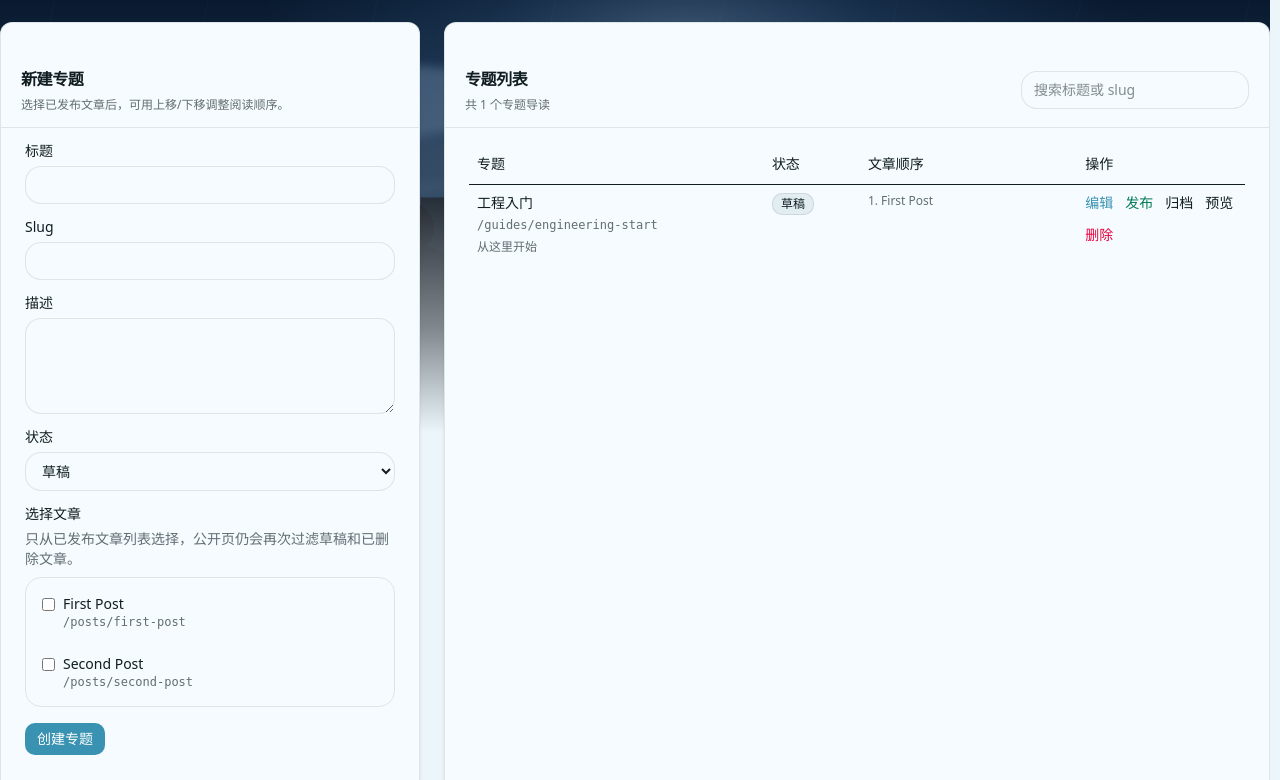
admin topic guides page › shows Chinese field errors and does not submit invalid guide form
(page scrolled)
Expected: the text "First Post" is shown, x1=63 y1=594 x2=124 y2=613
Click the button "创建专题": (65, 739) x1=25 y1=723 x2=105 y2=755
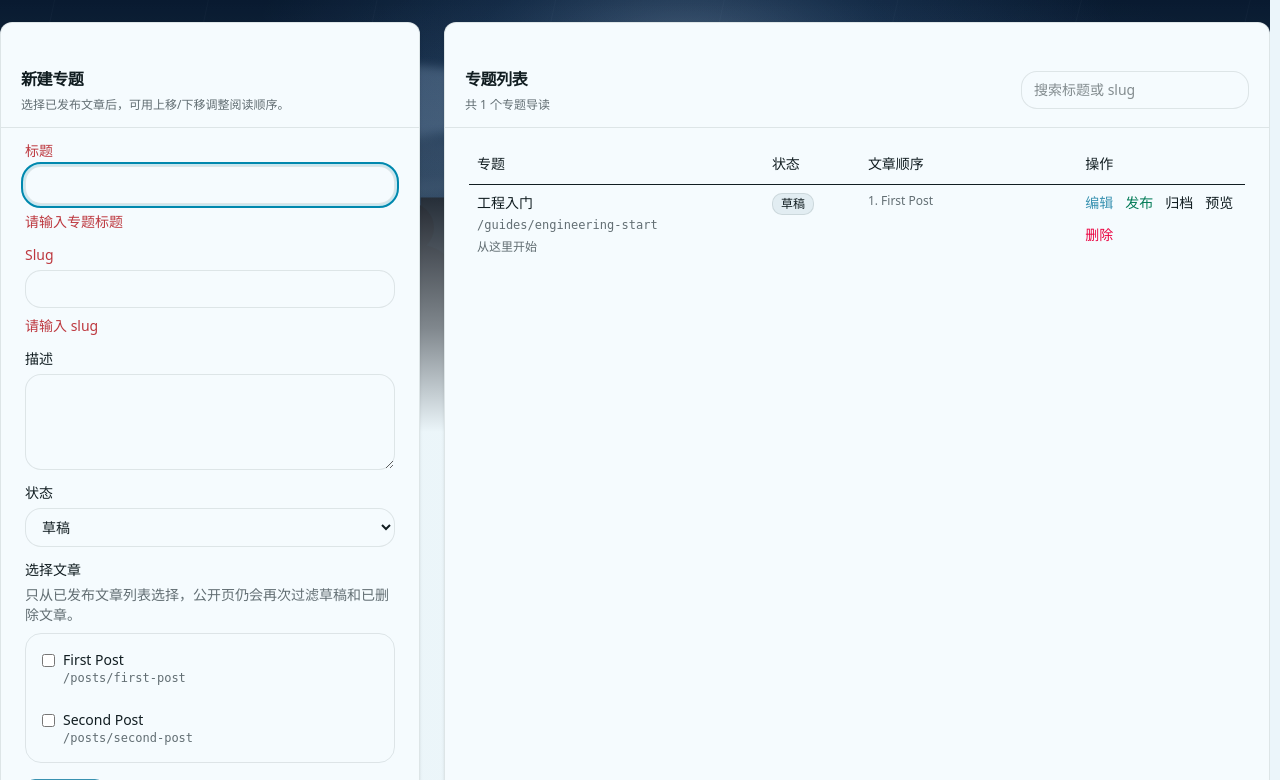
Result: the text "请输入专题标题" is shown at x1=25 y1=212 x2=123 y2=231
Result: the text "请输入 slug" is shown at x1=25 y1=316 x2=98 y2=335
